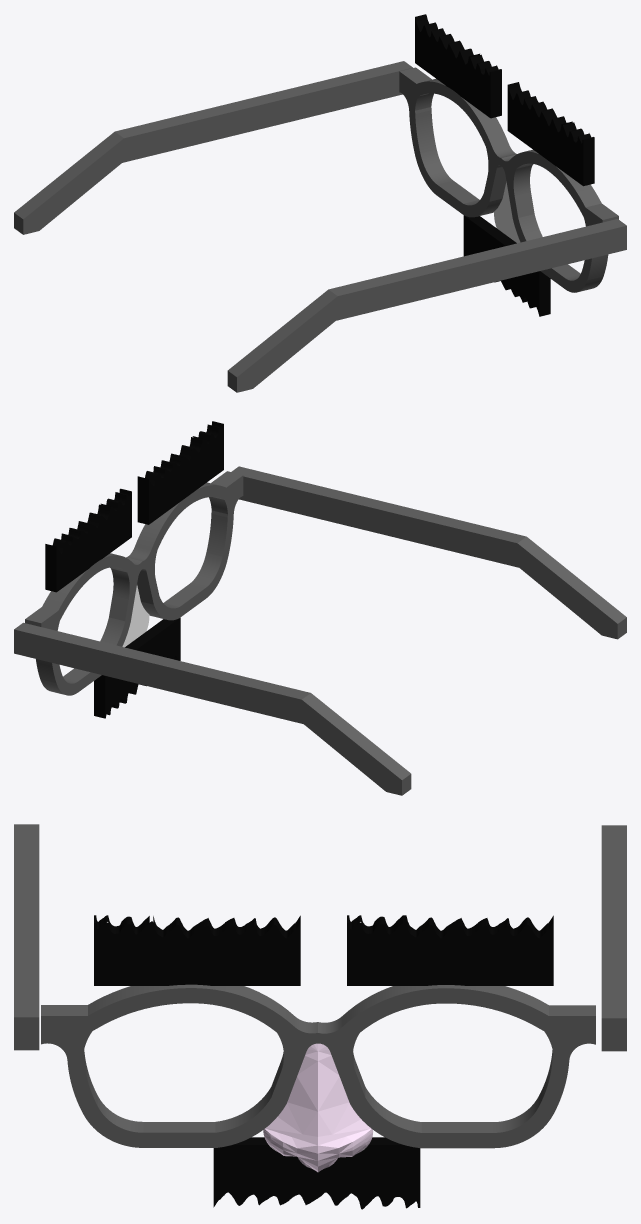
The model's file is Groucho_Marx_Glasses_Low-Poly.gltf.
The picture shows the model from 3 angles, top to bottom: view 1: azimuth 30°, elevation 25°; view 2: azimuth 150°, elevation 25°; view 3: azimuth 270°, elevation 25°; orthographic projection. The views are drawn at different scales.
Parts seen in each view (by area): view 1: Root Node; view 2: Root Node; view 3: Root Node.
Part boxes in pixels (x1,y1,x2,y2): Root Node: (14, 14, 626, 392); Root Node: (14, 421, 626, 795); Root Node: (14, 824, 626, 1209).
Bounding box in the file's own units: 1.94 × 0.958 × 1.85.
